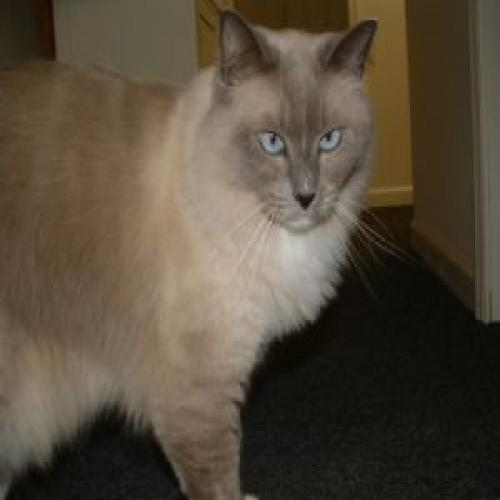ragdoll: (210, 4, 388, 250)
